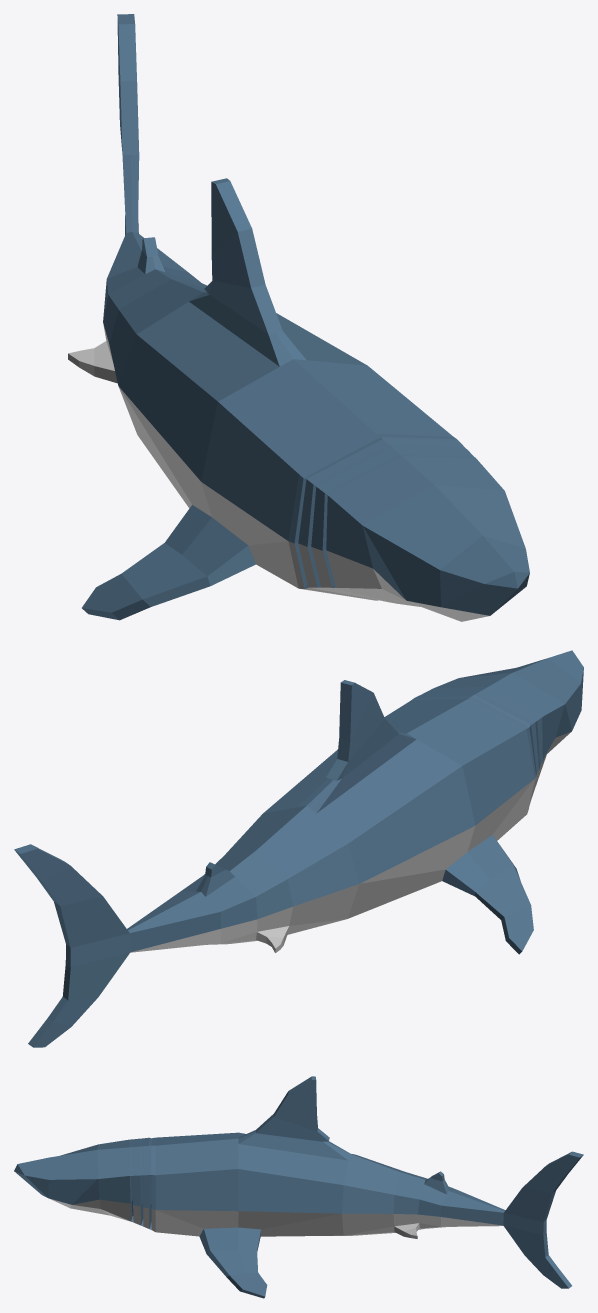
The model's file is shark.glb.
3 renders of one model, top to bottom at view 1: azimuth 30°, elevation 25°; view 2: azimuth 150°, elevation 25°; view 3: azimuth 270°, elevation 25°, orthographic. The views are drawn at different scales.
Parts seen in each view (by area): view 1: Shark_Cylinder; view 2: Shark_Cylinder; view 3: Shark_Cylinder.
Boxes of the visible parts, <box> form: Shark_Cylinder: <box>68,14,529,621</box>; Shark_Cylinder: <box>14,650,583,1047</box>; Shark_Cylinder: <box>14,1076,583,1298</box>.
Bounding box in the file's own units: 5.76 × 5.27 × 15.38.
